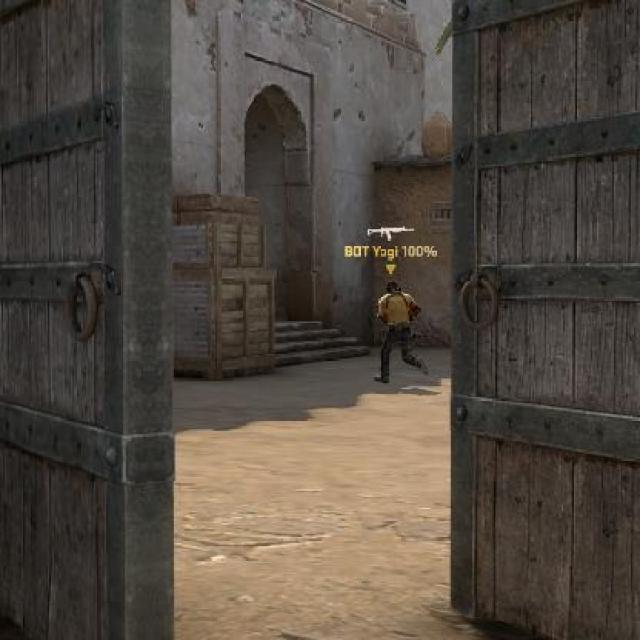Dead: (384, 278, 402, 296)
T-Body: (374, 278, 422, 382)
